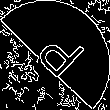P_SW: (25, 24, 85, 86)
